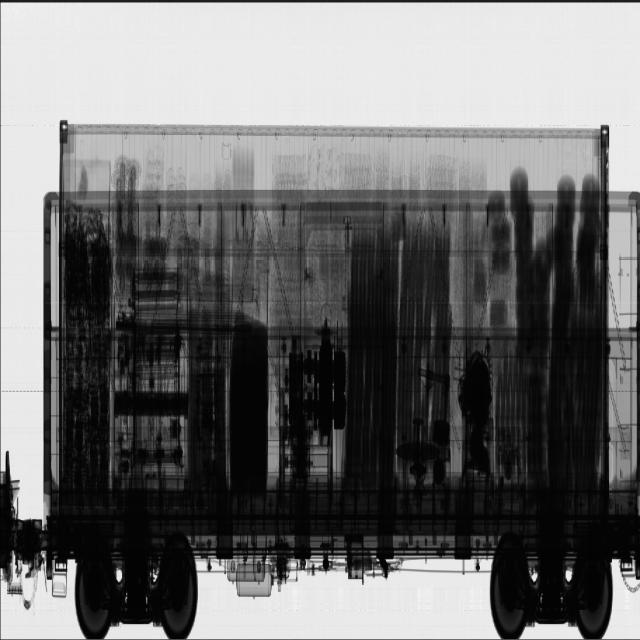auto parts: (202, 298, 315, 499)
